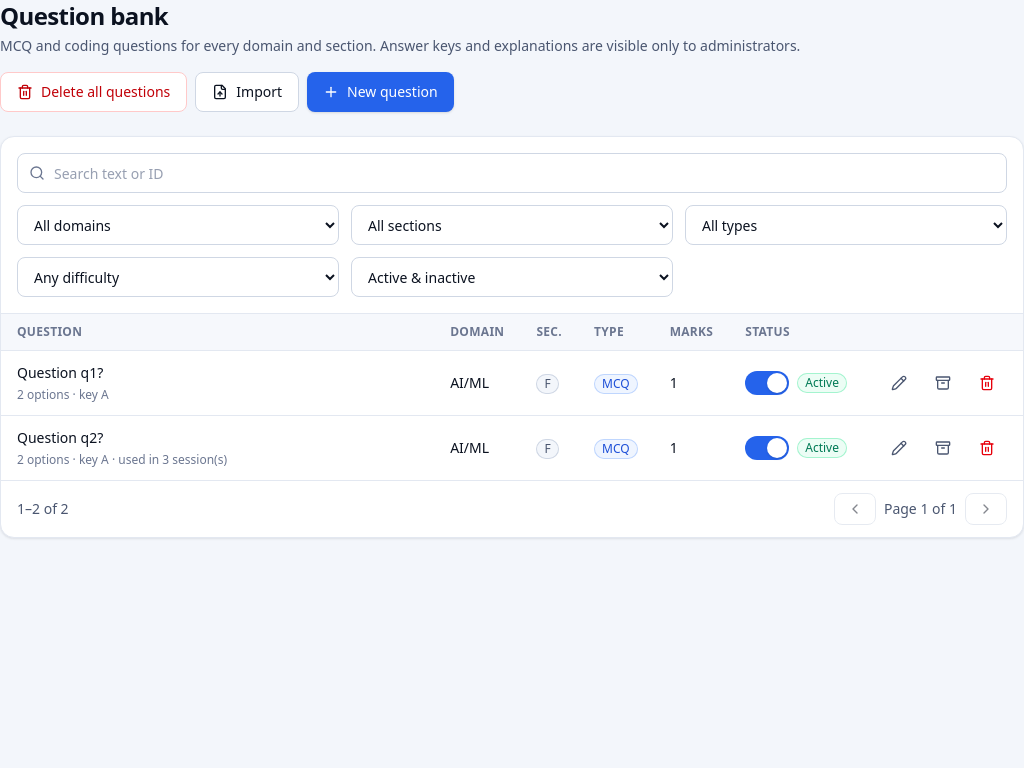
QuestionBankPage › shows the error and no success message when deletion fails
Click the button named "Permanently delete question" in the row of "Question q1?".
click(987, 383)  # box x1=967 y1=367 x2=1007 y2=399
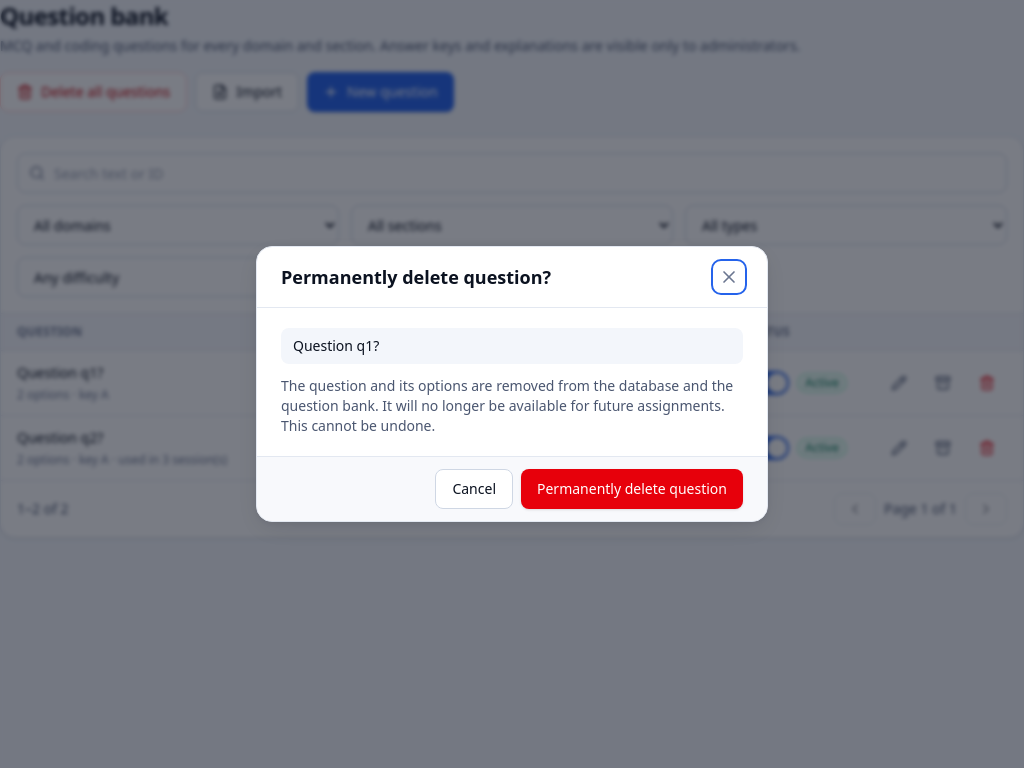
Click the button "Permanently delete question".
click(632, 489)  # box x1=521 y1=469 x2=743 y2=509
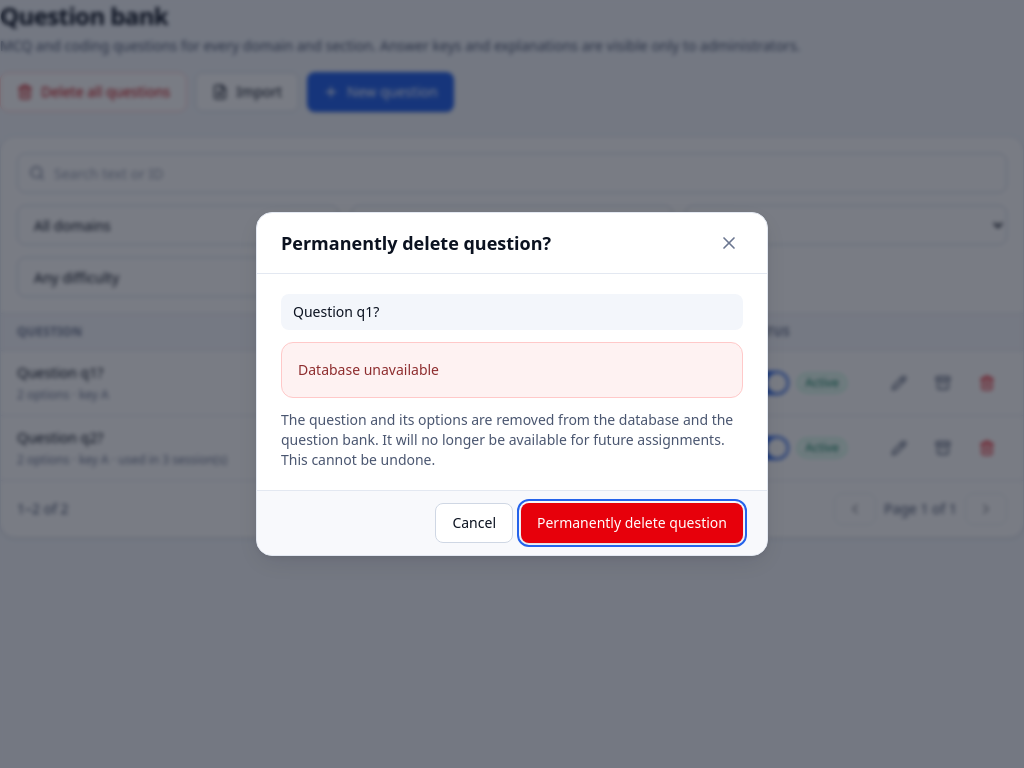
Now the text "Database unavailable" is shown, box x1=298 y1=359 x2=439 y2=381
